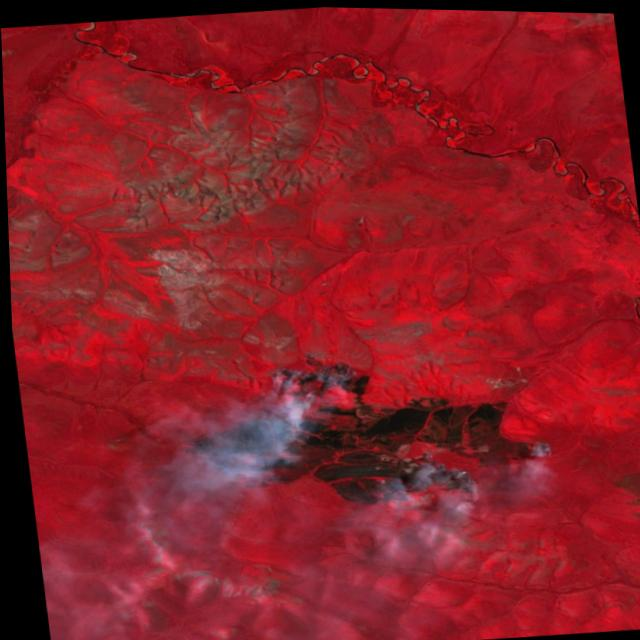fire: (372, 452, 484, 527), (265, 346, 368, 413), (502, 403, 565, 496)
